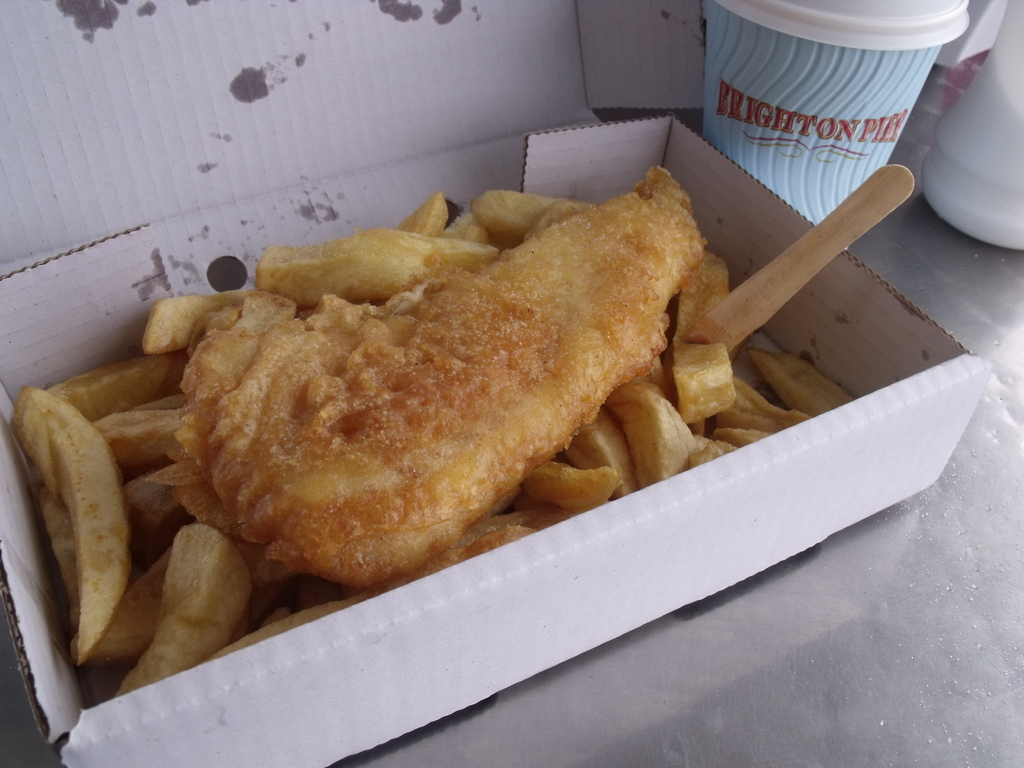French fries: (0, 183, 785, 647)
